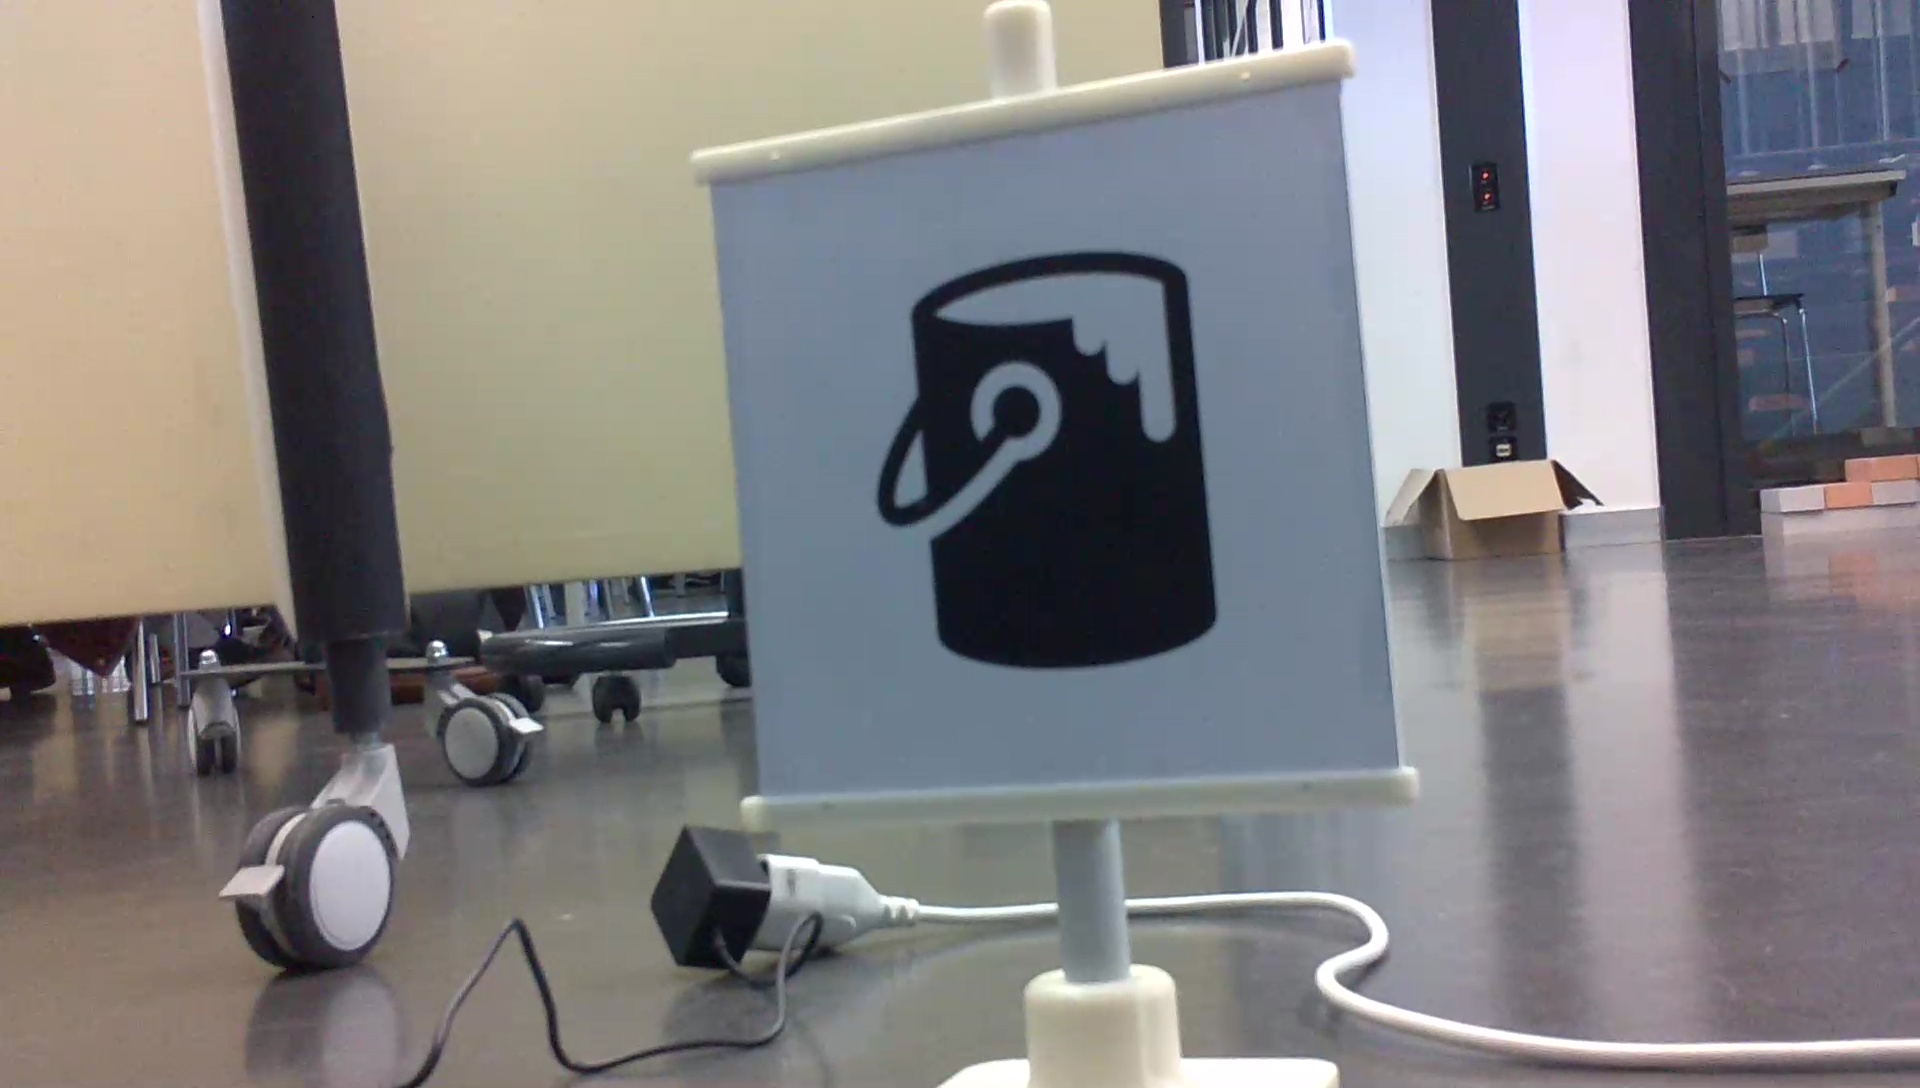bucket: (860, 240, 1228, 680)
